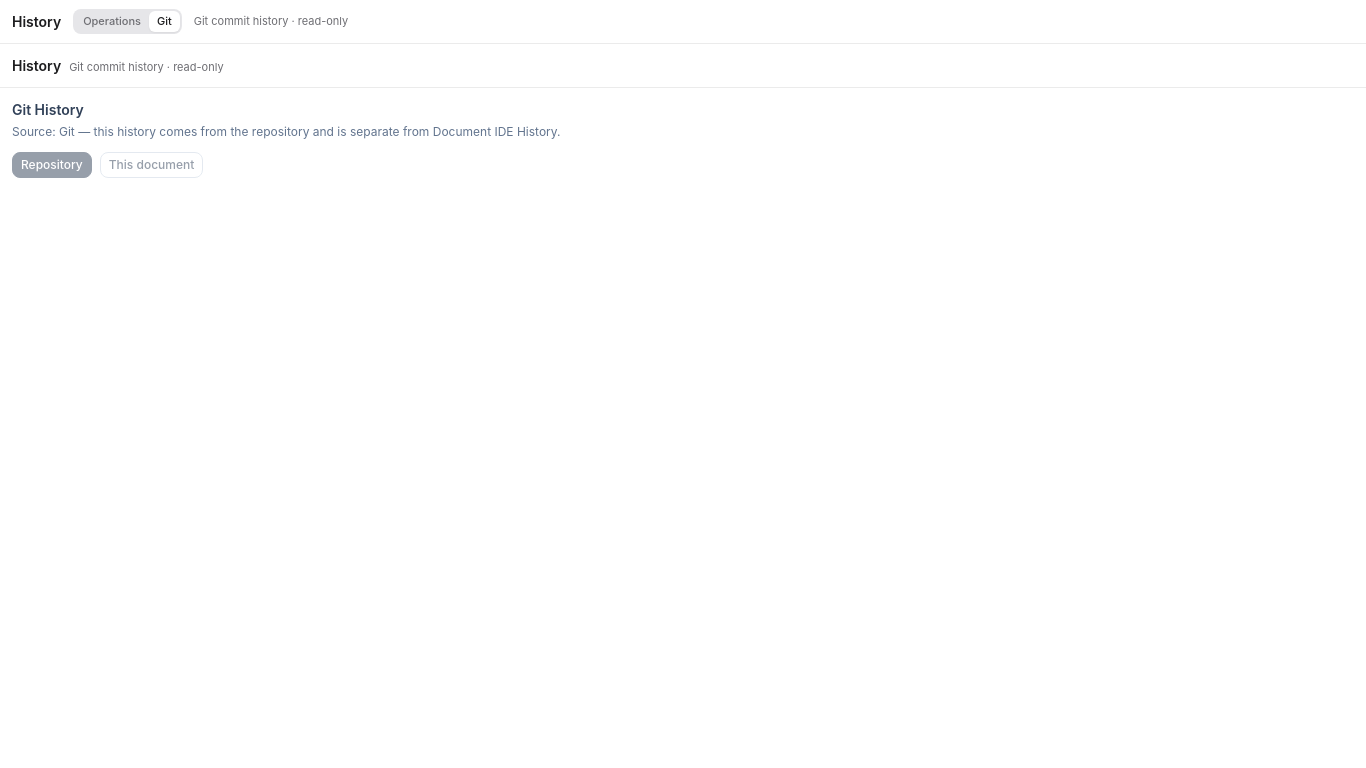
HistoryScreen (UI-03 screen 10) › surfaces an undo transport failure as a typed error and opens no fake review
Step 1. Click the radio button labelled "Operations" → (112, 22), box left=75, top=11, right=149, bottom=32
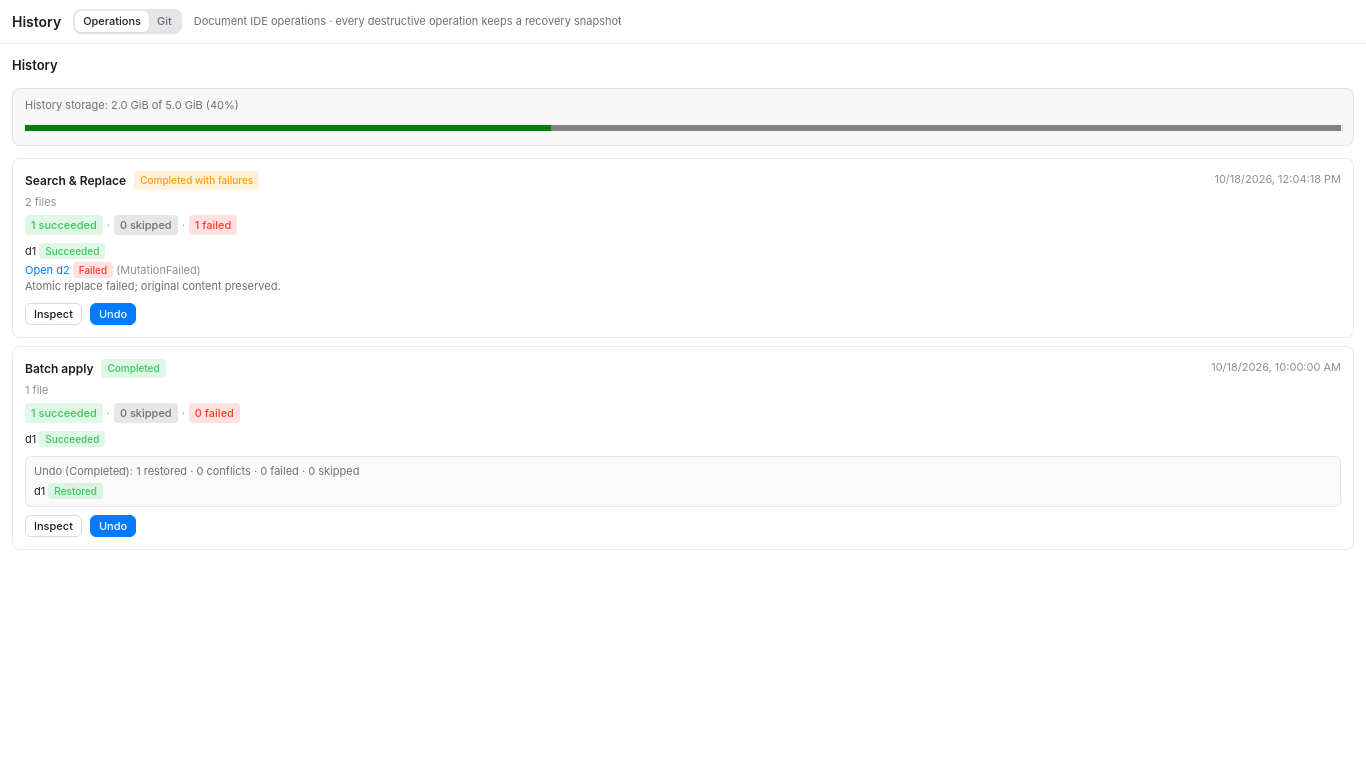
Step 2. Click the button "Undo" below "Search & Replace" → (113, 314), box left=90, top=302, right=136, bottom=325
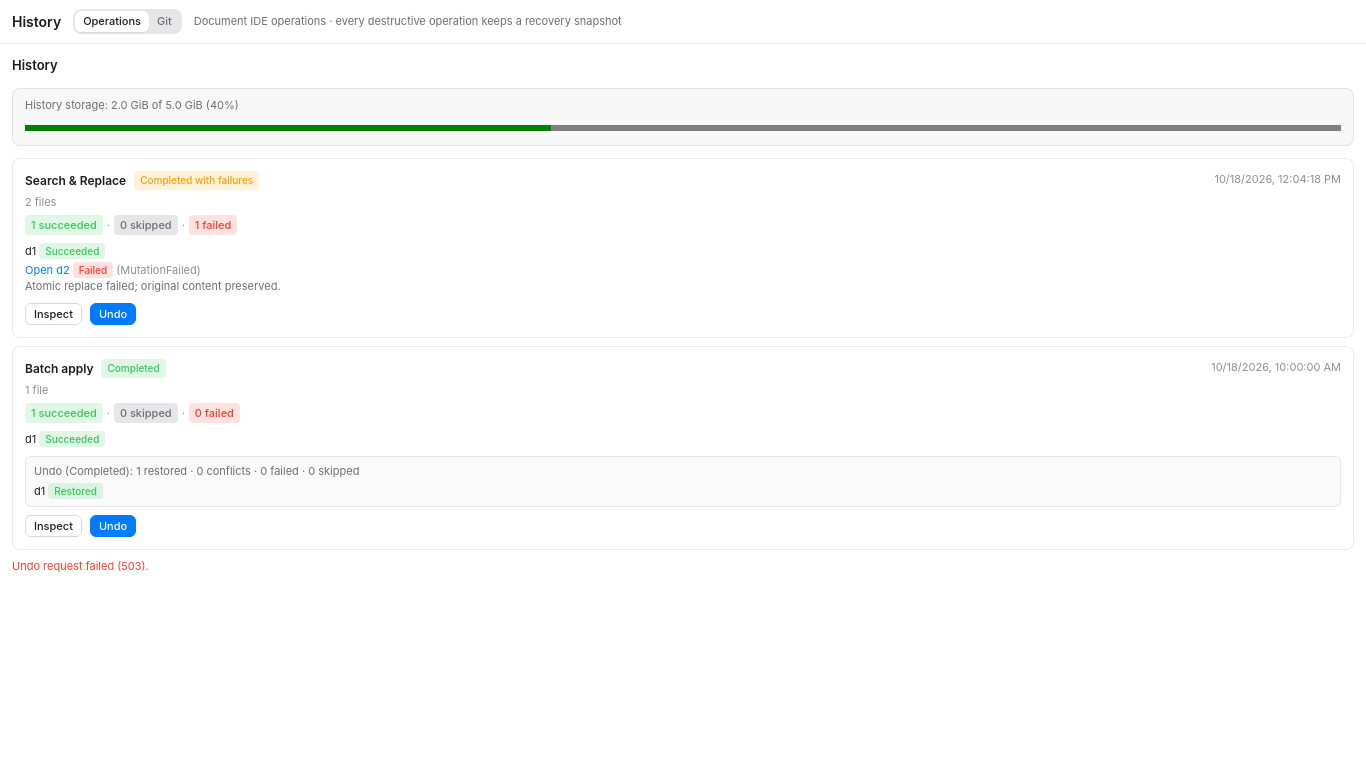
expect the message with test id "history-undo-error" reads "Undo request failed (503).": met, box left=12, top=559, right=149, bottom=573
